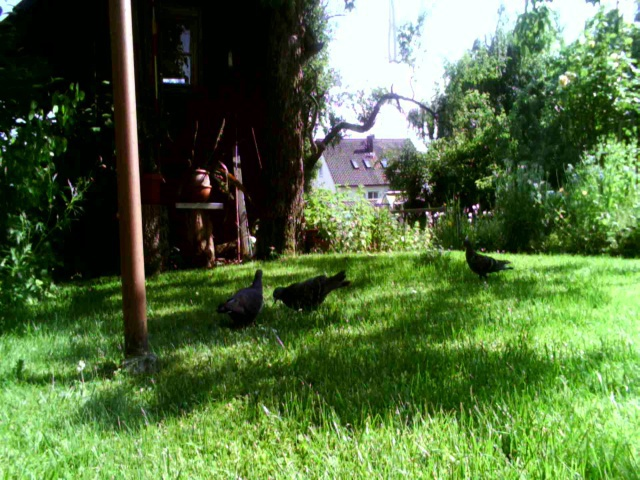Pigeon: (272, 268, 353, 319), (213, 267, 267, 332), (458, 237, 515, 286)
